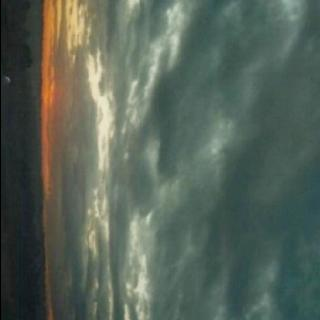Stratocumulus: (33, 0, 320, 320)
